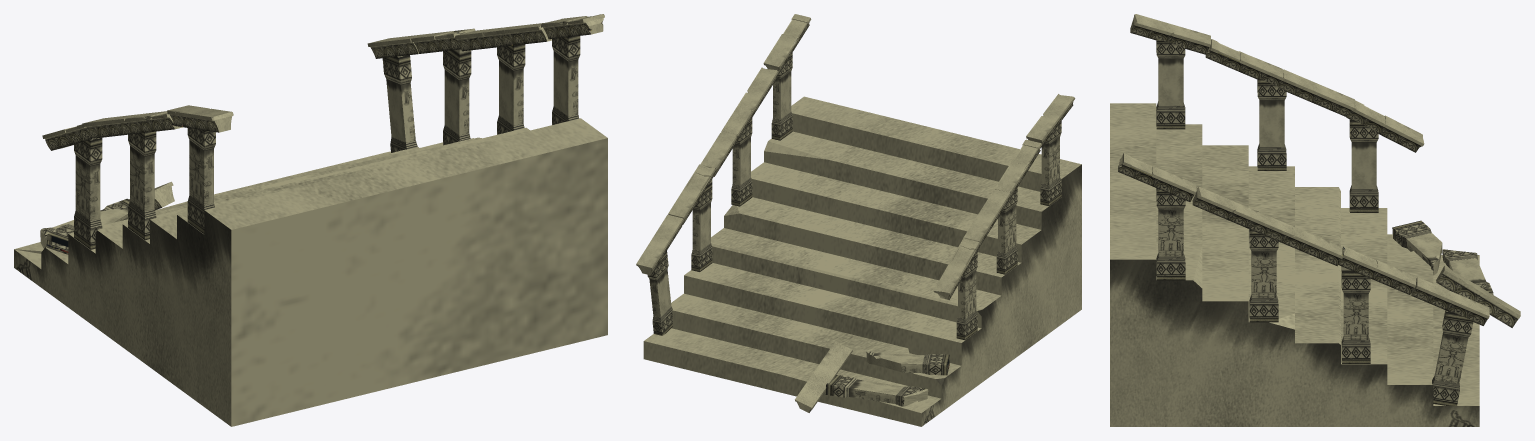
The model's file is stairs.FBX.
3 views of the same model, side by side, from view 1: azimuth 30°, elevation 25°; view 2: azimuth 150°, elevation 25°; view 3: azimuth 270°, elevation 25° (orthographic). The views are drawn at different scales.
Visible parts, largest first — view 1: Stairs001; view 2: Stairs001; view 3: Stairs001.
Boxes of the visible parts, bbox=[...] form: Stairs001: bbox=[14, 14, 607, 426]; Stairs001: bbox=[636, 14, 1081, 426]; Stairs001: bbox=[1110, 14, 1520, 426].
Bounding box in the file's own units: 104 × 80.99 × 113.
